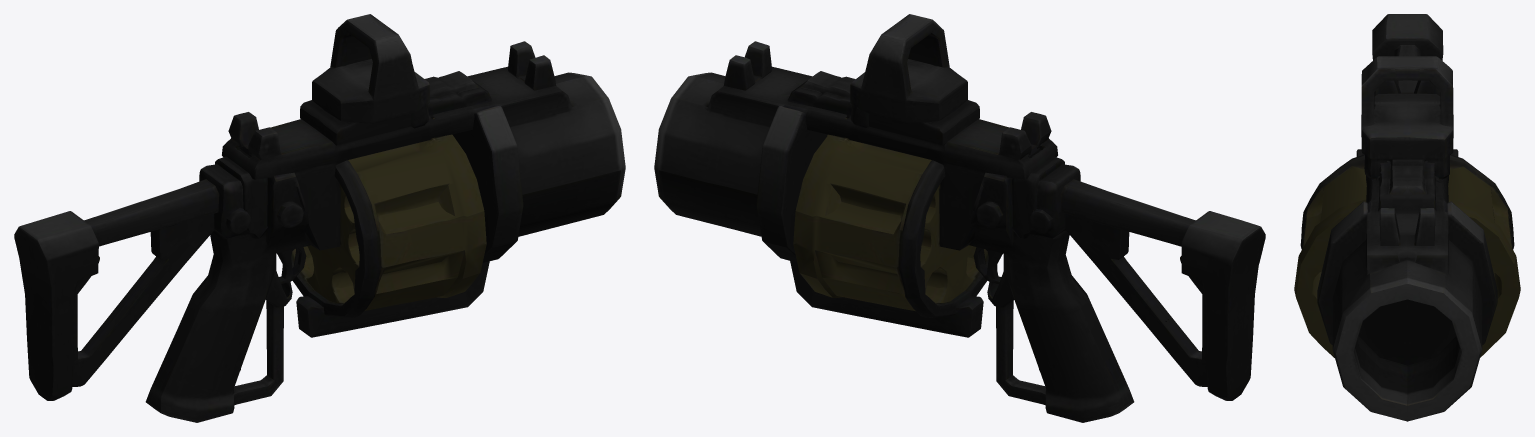
File: revolving_grenade_launcher_low.glb
3 renders of one model, left to right at view 1: azimuth 30°, elevation 25°; view 2: azimuth 150°, elevation 25°; view 3: azimuth 270°, elevation 25°, orthographic. The views are drawn at different scales.
Parts seen in each view (by area): view 1: world; view 2: world; view 3: world.
Part boxes in pixels (x1,y1,x2,y2): world: [14, 14, 625, 422]; world: [654, 14, 1265, 422]; world: [1294, 14, 1520, 421].
Bounding box in the file's own units: 1 × 0.5807 × 0.3313.
1 material, 1 textured.
